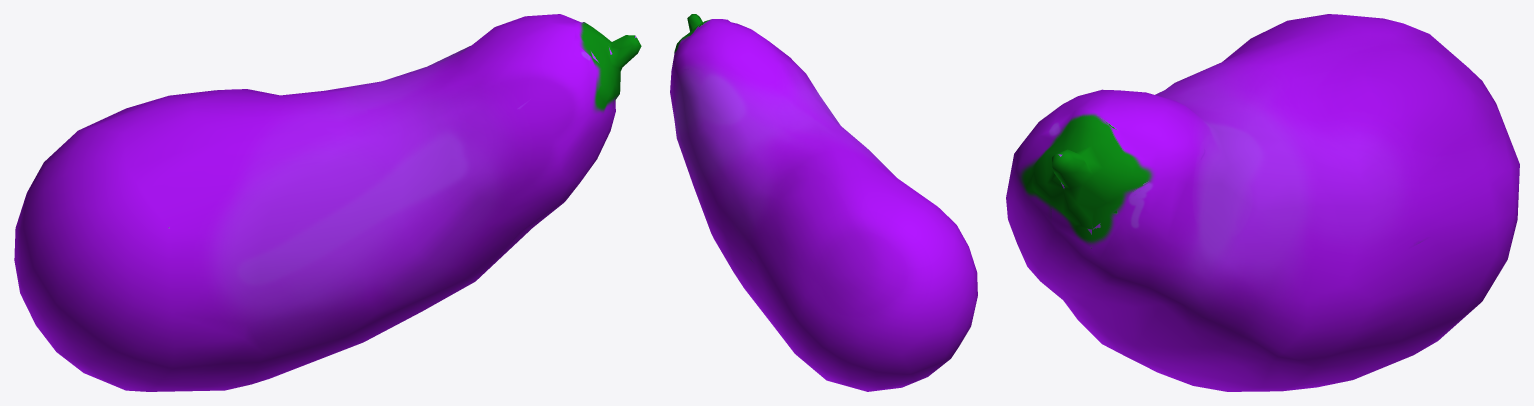
File: aubergine.glb
The picture shows the model from 3 angles, left to right: view 1: azimuth 30°, elevation 25°; view 2: azimuth 150°, elevation 25°; view 3: azimuth 270°, elevation 25°; orthographic projection. The views are drawn at different scales.
Parts seen in each view (by area): view 1: aubergine; view 2: aubergine; view 3: aubergine.
Boxes of the visible parts, x1,y1,x2,y2 form: aubergine: (14,14,641,391); aubergine: (670,14,977,391); aubergine: (1006,14,1519,391).
Bounding box in the file's own units: 3.99 × 2.71 × 2.89.
Materials: 1 (1 with a texture image).
